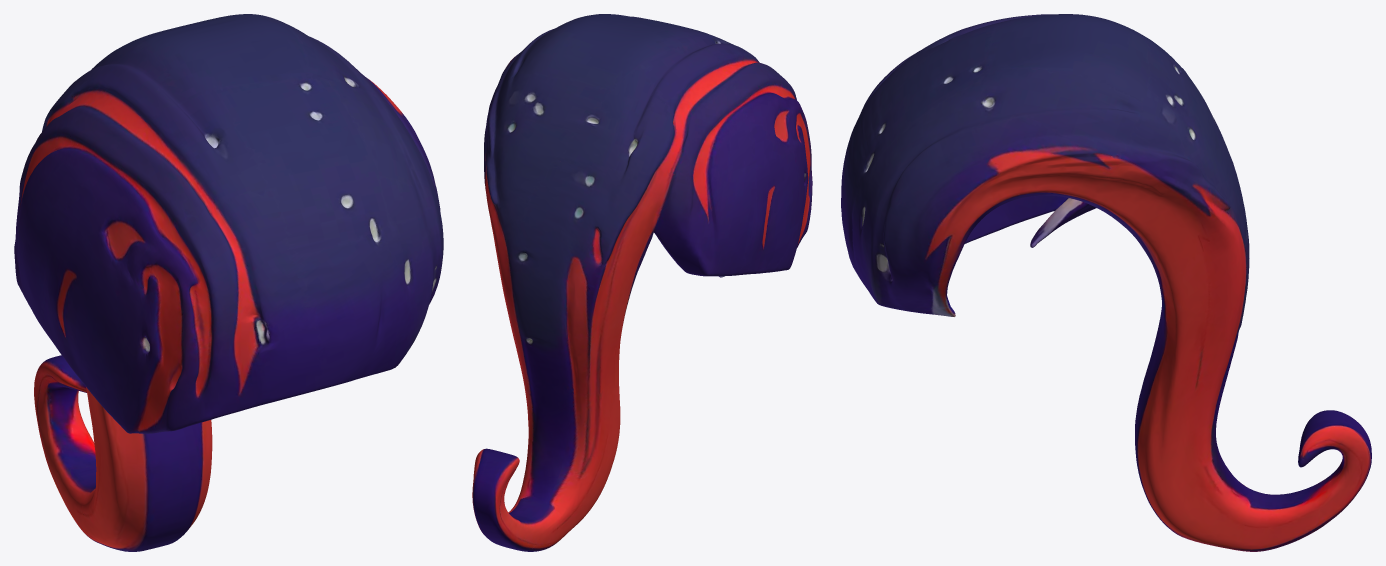
File: E001MiyukiHair.glb
3 renders of one model, left to right at view 1: azimuth 30°, elevation 25°; view 2: azimuth 150°, elevation 25°; view 3: azimuth 270°, elevation 25°, orthographic. The views are drawn at different scales.
Visible parts, largest first — view 1: tripo_node_f1f0c6cc-a7c6-4992-9a64-dbfb0db8bffa; view 2: tripo_node_f1f0c6cc-a7c6-4992-9a64-dbfb0db8bffa; view 3: tripo_node_f1f0c6cc-a7c6-4992-9a64-dbfb0db8bffa.
Boxes of the visible parts, x1,y1,x2,y2 form: tripo_node_f1f0c6cc-a7c6-4992-9a64-dbfb0db8bffa: [14, 14, 443, 551]; tripo_node_f1f0c6cc-a7c6-4992-9a64-dbfb0db8bffa: [472, 14, 812, 551]; tripo_node_f1f0c6cc-a7c6-4992-9a64-dbfb0db8bffa: [841, 14, 1371, 551].
Size of the model in its own units: 0.5619 by 0.9501 by 0.8922.
Materials: 1 (1 with a texture image).
